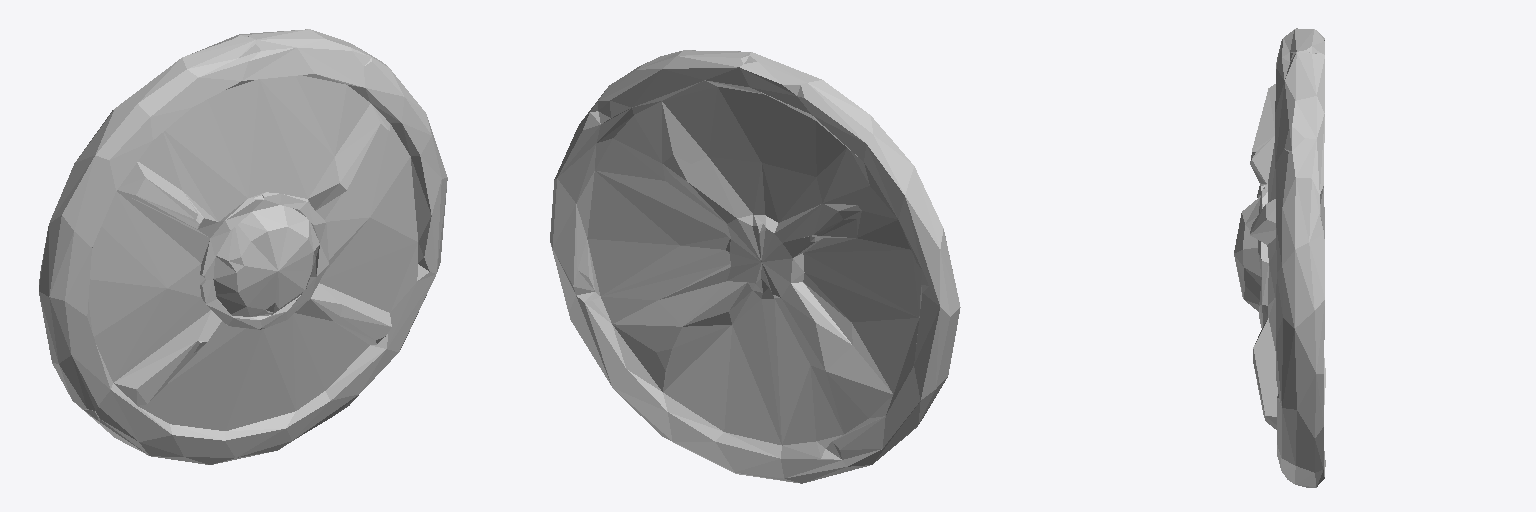
Rendered from BasicCircular.obj.
3 renders of one model, left to right at view 1: azimuth 30°, elevation 25°; view 2: azimuth 150°, elevation 25°; view 3: azimuth 270°, elevation 25°, orthographic.
Visible parts, largest first — view 1: CircularBasic_Circle; view 2: CircularBasic_Circle; view 3: CircularBasic_Circle.
Boxes of the visible parts, x1,y1,x2,y2 form: CircularBasic_Circle: [39, 29, 447, 464]; CircularBasic_Circle: [550, 50, 960, 483]; CircularBasic_Circle: [1234, 28, 1325, 487].
Size of the model in its own units: 0.7111 by 0.7088 by 0.1424.